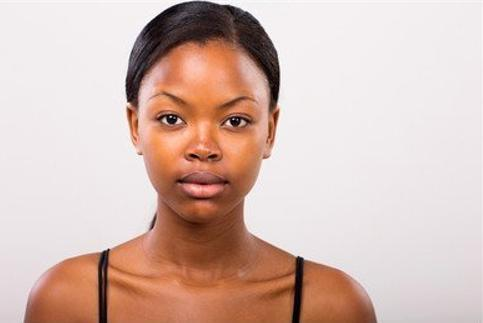Sober: (143, 61, 265, 216)
